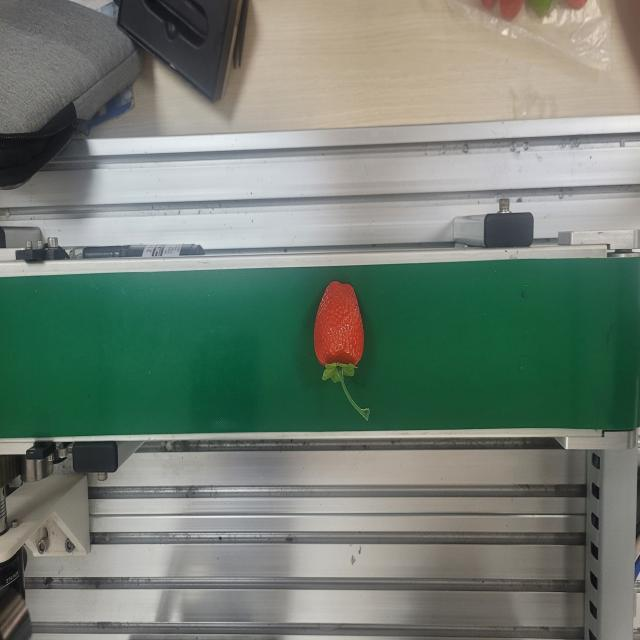Large Ripe Strawberry: (311, 276, 372, 423)
conveyor: (0, 247, 638, 446)
